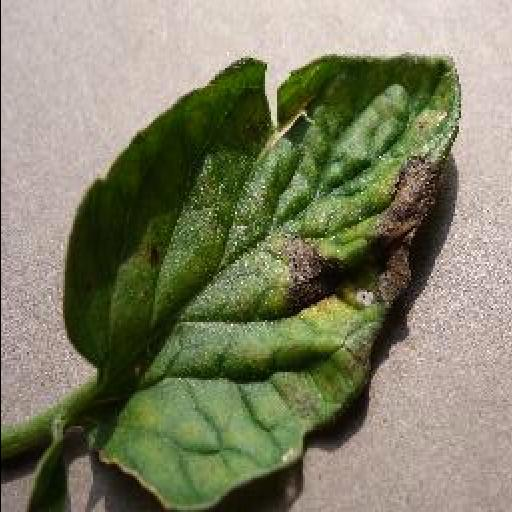disease_tomato: (59, 50, 465, 512)
